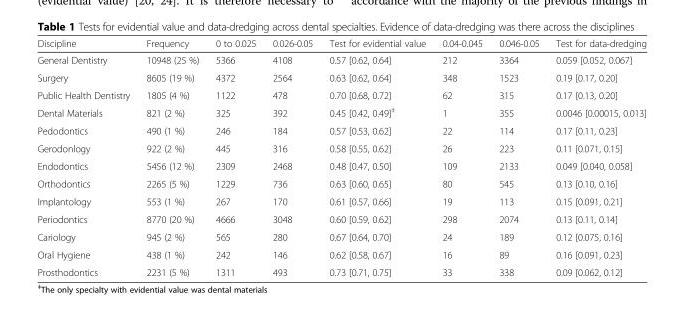table: (36, 37, 646, 277)
table column: (320, 37, 433, 277), (36, 37, 137, 277), (546, 37, 646, 277), (137, 37, 206, 277), (206, 37, 263, 277), (263, 37, 320, 277), (433, 37, 490, 277), (490, 37, 546, 277)
table column header: (36, 37, 646, 51)
table row: (36, 68, 646, 86), (36, 103, 646, 121), (36, 121, 646, 139), (36, 156, 646, 174), (36, 174, 646, 192), (36, 192, 646, 210), (36, 227, 646, 245), (36, 245, 646, 263), (36, 51, 646, 68), (36, 86, 646, 103), (36, 139, 646, 156), (36, 210, 646, 227), (36, 37, 646, 51), (36, 263, 646, 277)
